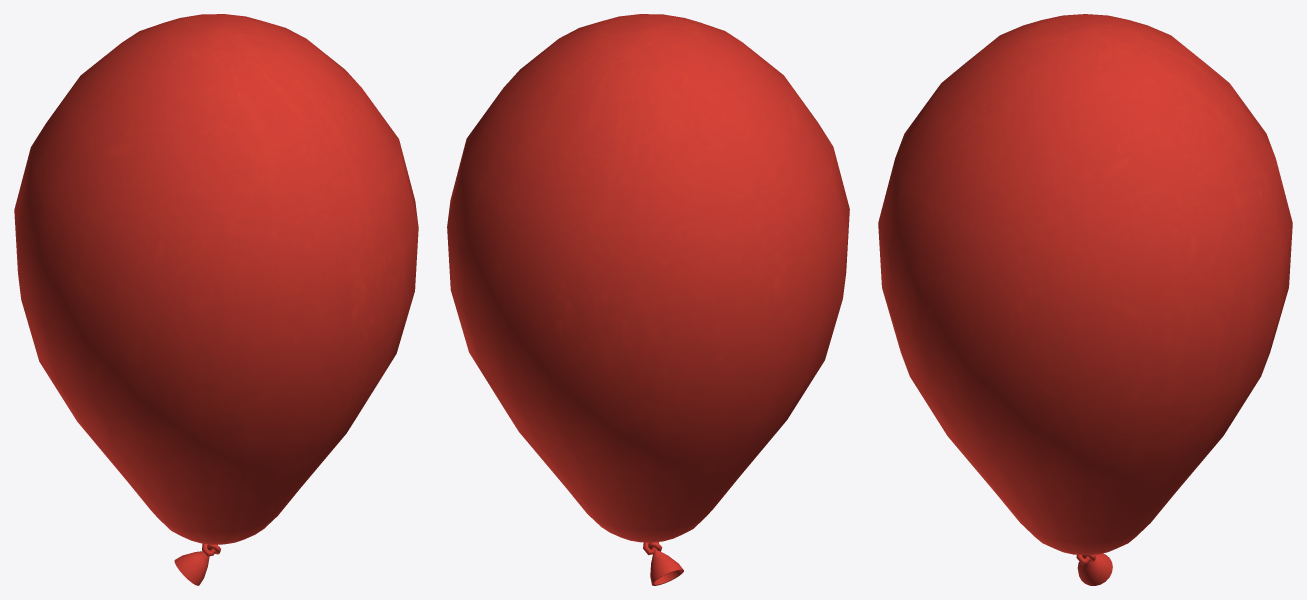
Rendered from dec_balloon.glb.
3 views of the same model, side by side, from view 1: azimuth 30°, elevation 25°; view 2: azimuth 150°, elevation 25°; view 3: azimuth 270°, elevation 25° (orthographic). The views are drawn at different scales.
Visible parts, largest first — view 1: Balloon; view 2: Balloon; view 3: Balloon.
Boxes of the visible parts, x1,y1,x2,y2 form: Balloon: [14, 14, 418, 585]; Balloon: [447, 14, 849, 585]; Balloon: [878, 14, 1292, 585].
Bounding box in the file's own units: 0.1713 × 0.257 × 0.1713.
Materials: 1 (1 with a texture image).
